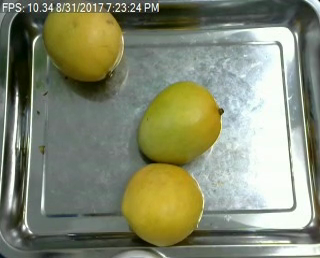Mango: (122, 164, 205, 245), (138, 81, 221, 162), (42, 1, 126, 79)
